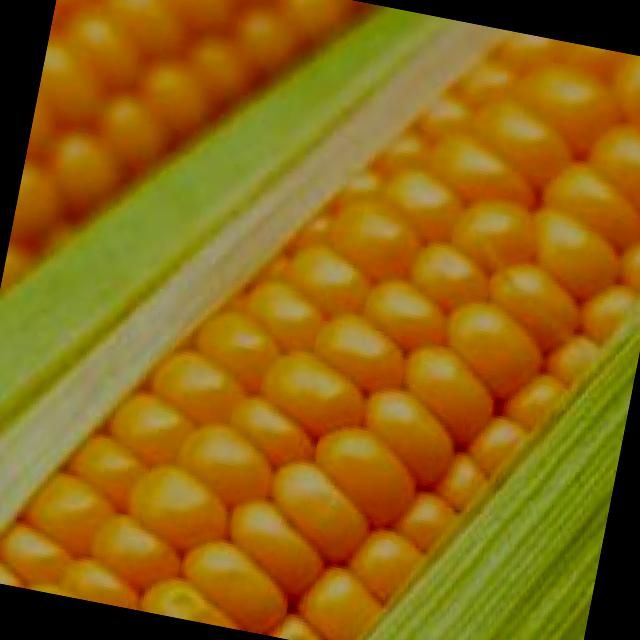corn: (0, 21, 640, 640)
